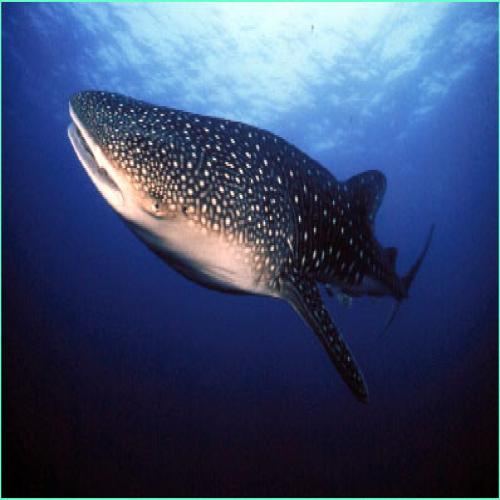shark-endangered: (67, 88, 436, 408)
